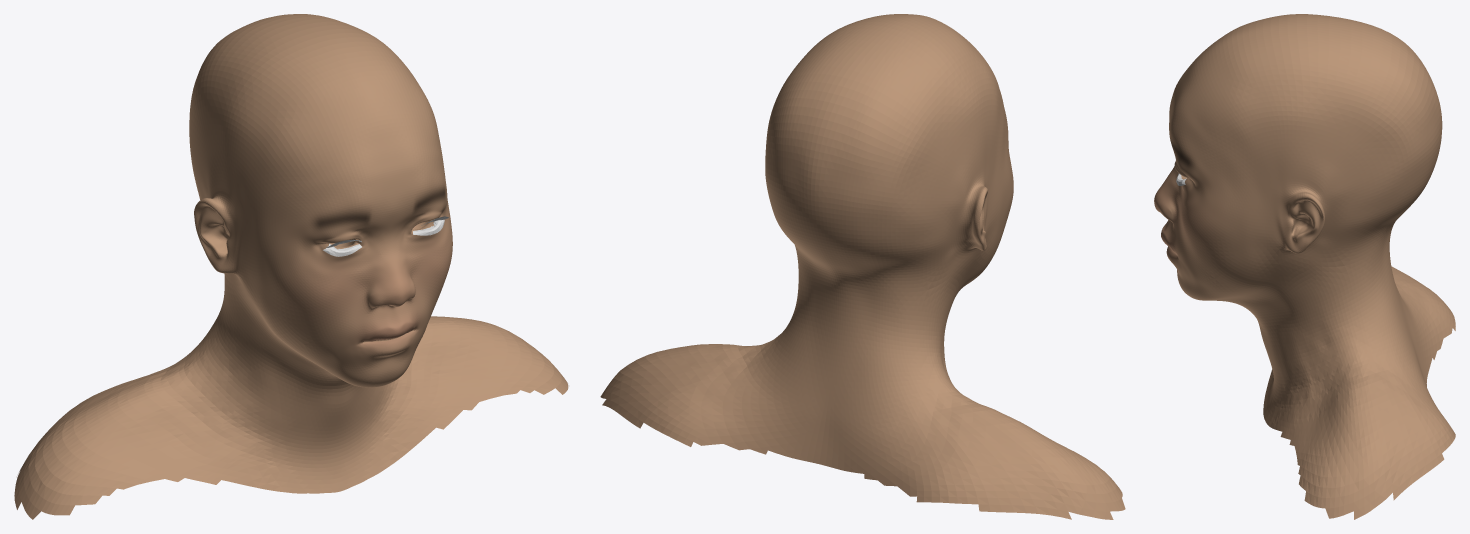
Rendered from hd_m_medium_full.glb.
3 renders of one model, left to right at view 1: azimuth 30°, elevation 25°; view 2: azimuth 150°, elevation 25°; view 3: azimuth 270°, elevation 25°, orthographic. The views are drawn at different scales.
Visible parts, largest first — view 1: skin, lashes; view 2: skin; view 3: skin.
Boxes of the visible parts, box(x1,y1,x2,y2) form: skin: box(14, 14, 568, 519); lashes: box(323, 216, 448, 256); skin: box(600, 14, 1125, 519); skin: box(1154, 14, 1455, 519).
Bounding box in the file's own units: 0.429 × 0.3341 × 0.2357.
